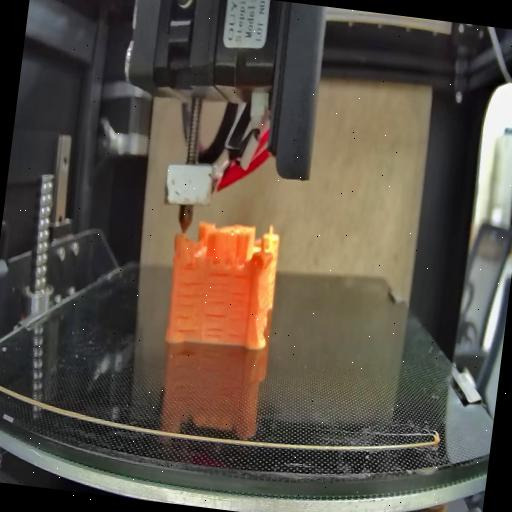cracks: (171, 275, 206, 337), (225, 289, 253, 342), (204, 268, 232, 305), (201, 309, 226, 341), (232, 268, 254, 282)
